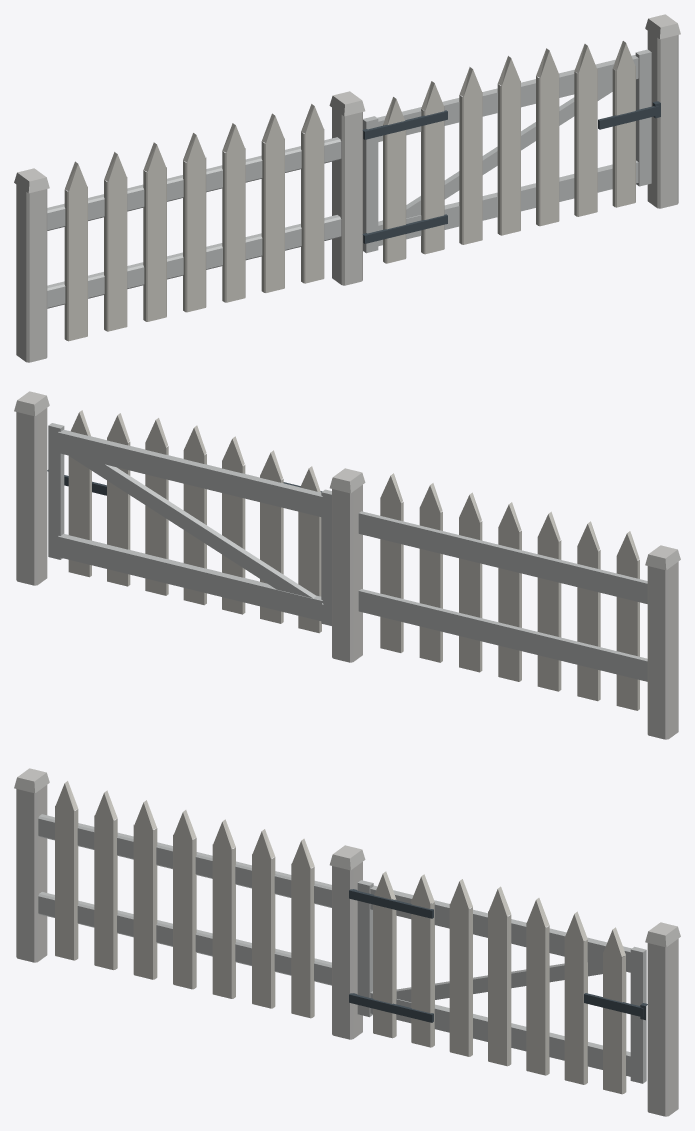
File: picket-fence-run-9310c1.glb
3 renders of one model, top to bottom at view 1: azimuth 30°, elevation 25°; view 2: azimuth 150°, elevation 25°; view 3: azimuth 330°, elevation 25°, orthographic.
Visible parts, largest first — view 1: fence, gate-leaf; view 2: fence, gate-leaf; view 3: fence, gate-leaf.
Part boxes in pixels (box(x1,y1,x2,y2)): fence: box(14, 14, 680, 362); gate-leaf: box(363, 41, 658, 263); fence: box(14, 391, 680, 739); gate-leaf: box(48, 410, 331, 633); fence: box(14, 768, 680, 1116); gate-leaf: box(349, 871, 646, 1094).
Bounding box in the file's own units: 4 × 1.1 × 0.162.
